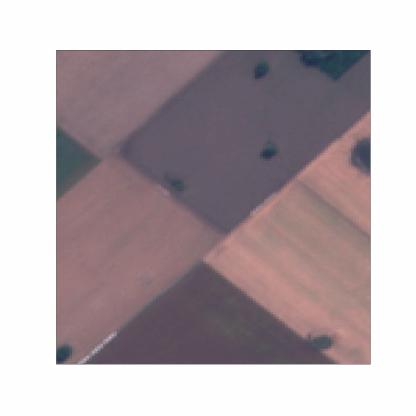silobolsa: (75, 328, 120, 364), (248, 191, 278, 217)
